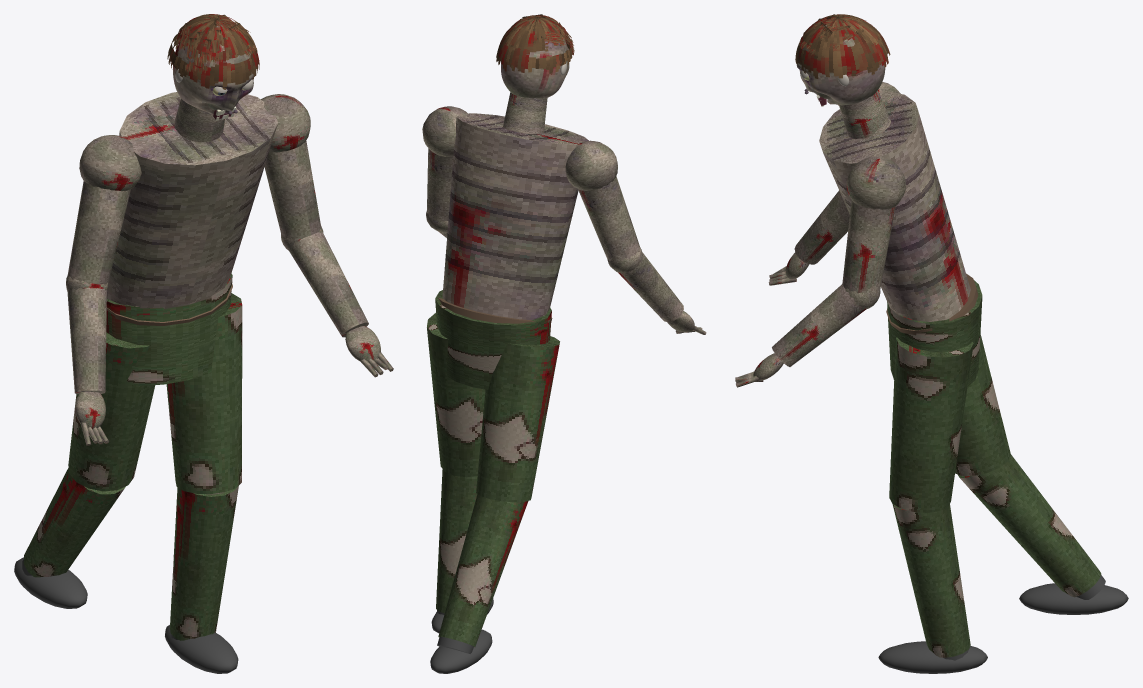
Rendered from Zombie_080.glb.
3 renders of one model, left to right at view 1: azimuth 30°, elevation 25°; view 2: azimuth 150°, elevation 25°; view 3: azimuth 270°, elevation 25°, orthographic. The views are drawn at different scales.
Visible parts, largest first — view 1: Zombie_080, object 3, object 10, object 41, object 16, object 11, object 4; view 2: Zombie_080, object 41, object 16, object 3, object 2; view 3: Zombie_080, object 41, object 10, object 16, object 3.
Part boxes in pixels (x1,y1,x2,y2): Zombie_080: [14, 92, 321, 673]; object 3: [67, 287, 106, 394]; object 10: [288, 231, 368, 337]; object 41: [167, 14, 259, 87]; object 16: [172, 25, 253, 114]; object 11: [345, 326, 380, 361]; object 4: [75, 391, 105, 428]; Zombie_080: [422, 92, 640, 673]; object 41: [496, 15, 573, 71]; object 16: [501, 38, 569, 98]; object 3: [618, 252, 683, 322]; object 2: [607, 248, 642, 273]; Zombie_080: [819, 82, 1128, 673]; object 41: [795, 14, 890, 76]; object 10: [772, 284, 866, 366]; object 16: [796, 25, 885, 105]; object 3: [794, 190, 849, 264].
Bounding box in the file's own units: 0.7578 × 1.73 × 0.9665.
16 materials, 6 textured.
